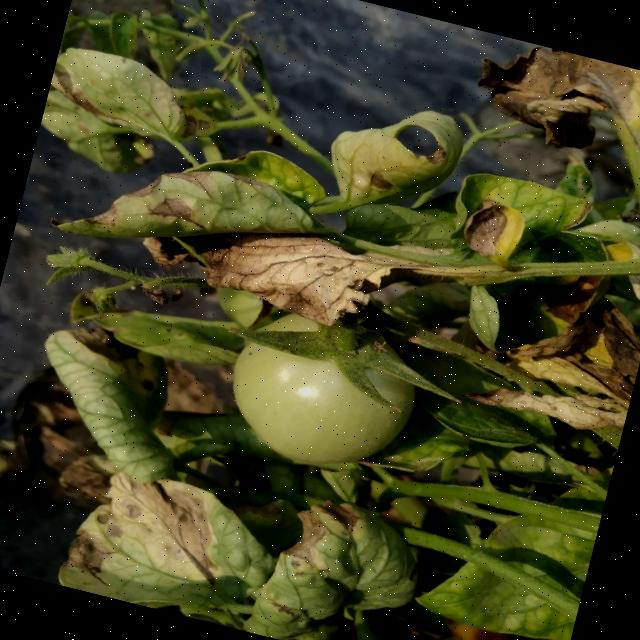Unripe: (220, 296, 432, 489)
